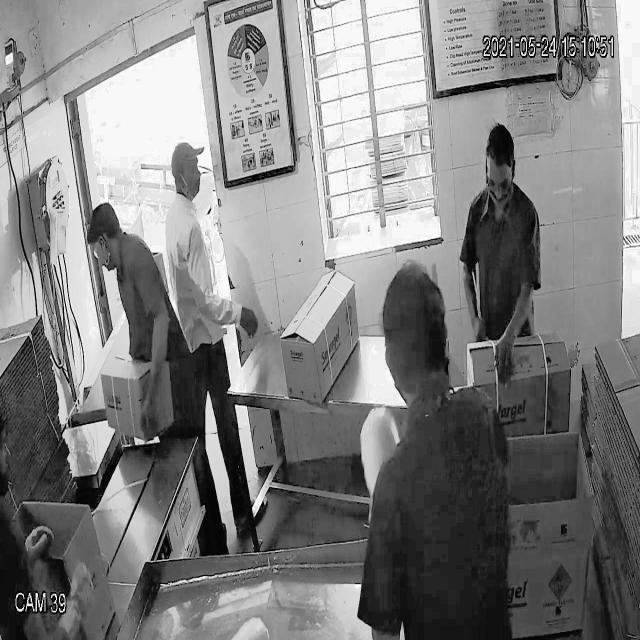glasses: (481, 167, 518, 200)
